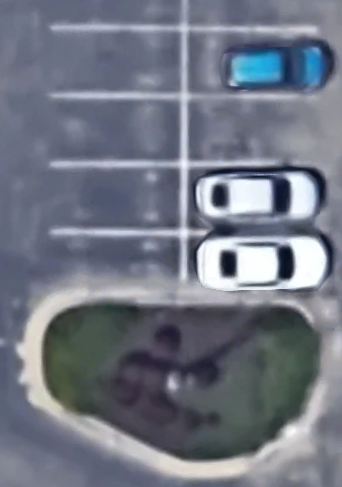Occupied: (186, 26, 317, 98), (185, 161, 316, 233), (184, 234, 317, 297)
Vacant: (51, 25, 185, 98), (184, 98, 317, 165), (53, 165, 185, 232), (52, 98, 185, 164), (51, 232, 183, 296)
